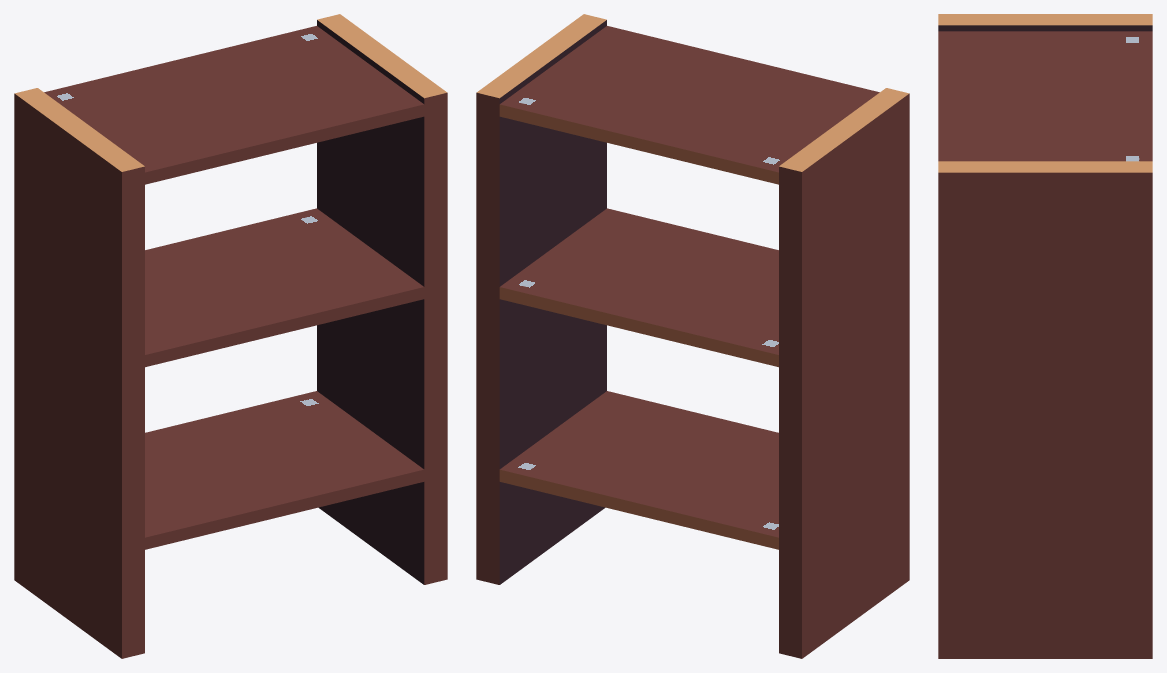
The model's file is GenericShelf.gltf.
3 renders of one model, left to right at view 1: azimuth 30°, elevation 25°; view 2: azimuth 150°, elevation 25°; view 3: azimuth 270°, elevation 25°, orthographic.
Visible parts, largest first — view 1: mesh; view 2: mesh; view 3: mesh.
Boxes of the visible parts, x1=… form: mesh: x1=14, y1=14, x2=447, y2=658; mesh: x1=476, y1=14, x2=909, y2=658; mesh: x1=938, y1=14, x2=1152, y2=658.
Size of the model in its own units: 1.75 by 2.5 by 1.
1 material, 1 textured.
